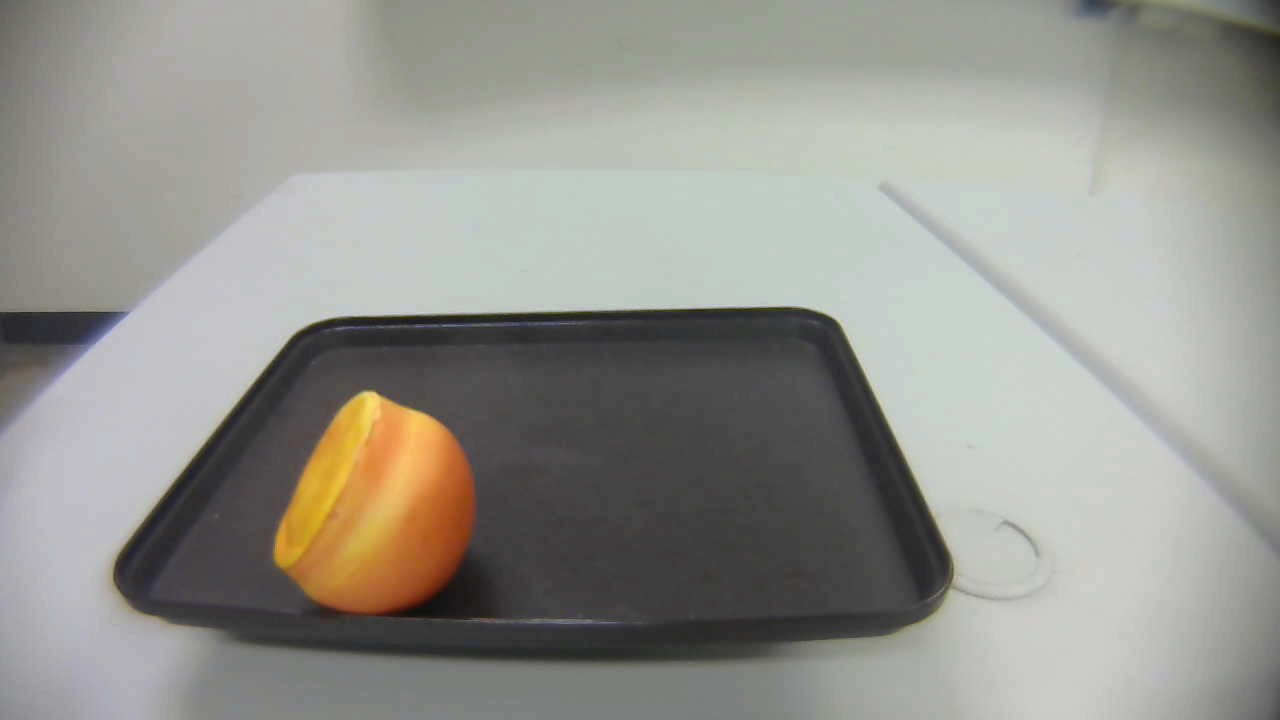bun: (275, 392, 476, 614)
